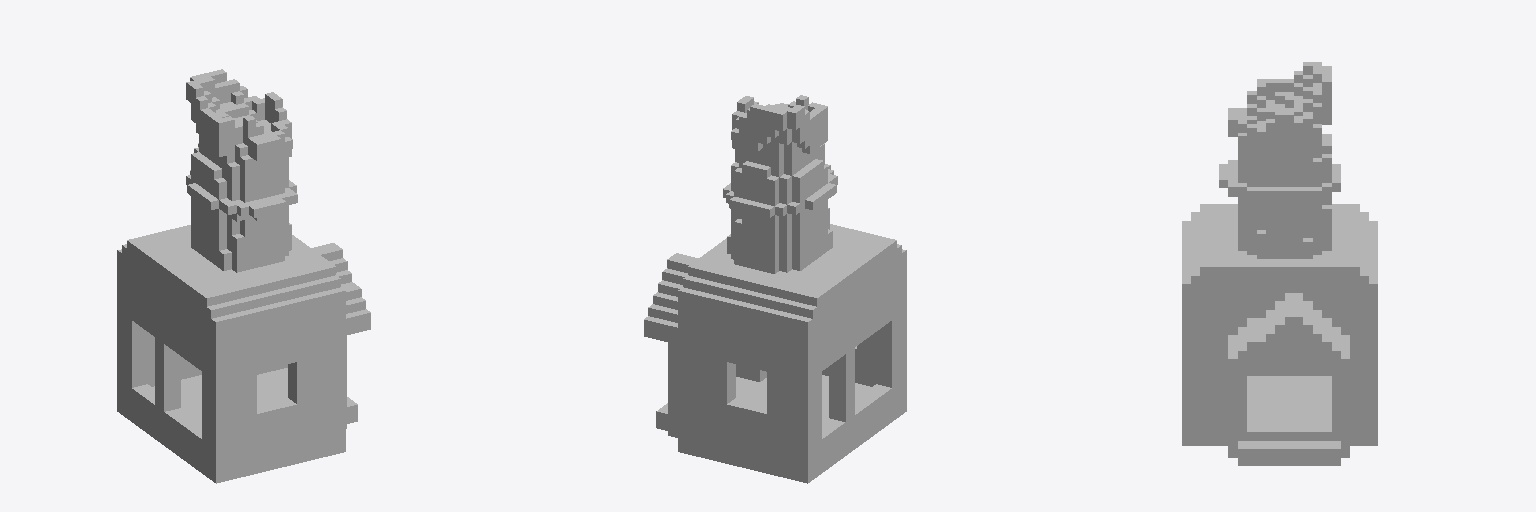
Rendered from Maison de Dingo.obj.
3 renders of one model, left to right at view 1: azimuth 30°, elevation 25°; view 2: azimuth 150°, elevation 25°; view 3: azimuth 270°, elevation 25°, orthographic.
Visible parts, largest first — view 1: maison Michey Minnie; view 2: maison Michey Minnie; view 3: maison Michey Minnie.
Boxes of the visible parts, x1=… form: maison Michey Minnie: x1=117, y1=69, x2=370, y2=483; maison Michey Minnie: x1=644, y1=95, x2=906, y2=483; maison Michey Minnie: x1=1182, y1=62, x2=1377, y2=465.
Bounding box in the file's own units: 2.2 × 4 × 2.1.